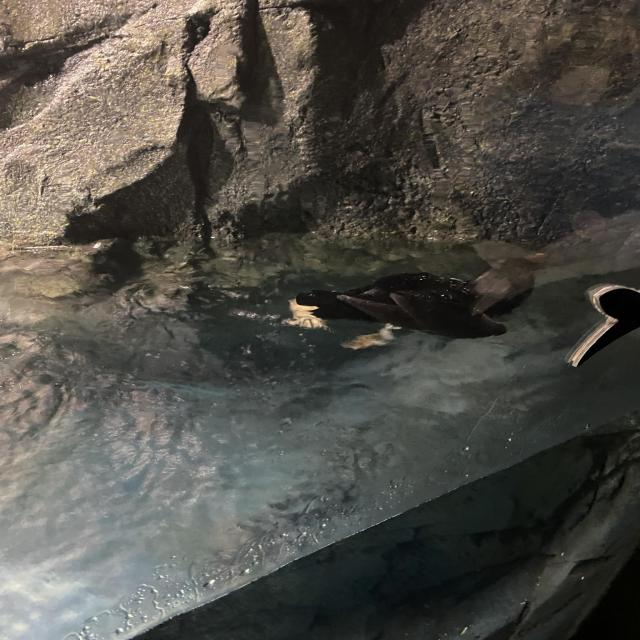puffin: (263, 264, 505, 354)
